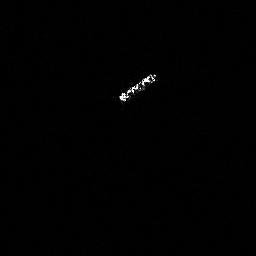ship: (118, 69, 159, 102)
